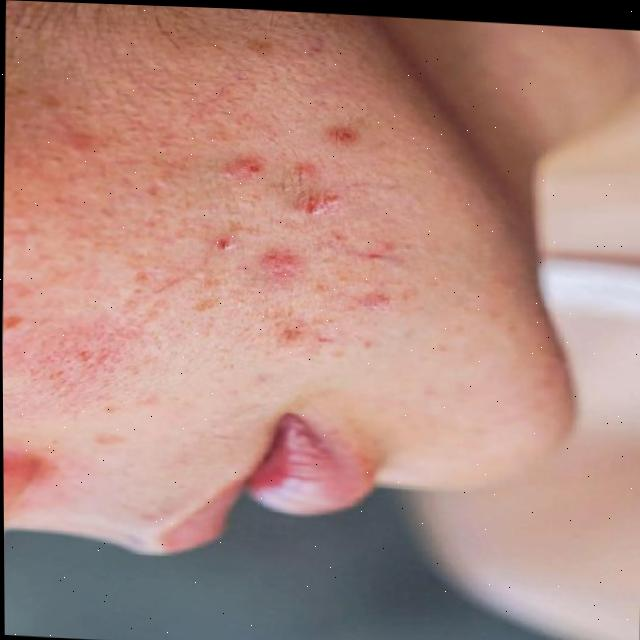Rosacea: (1, 72, 414, 418)
